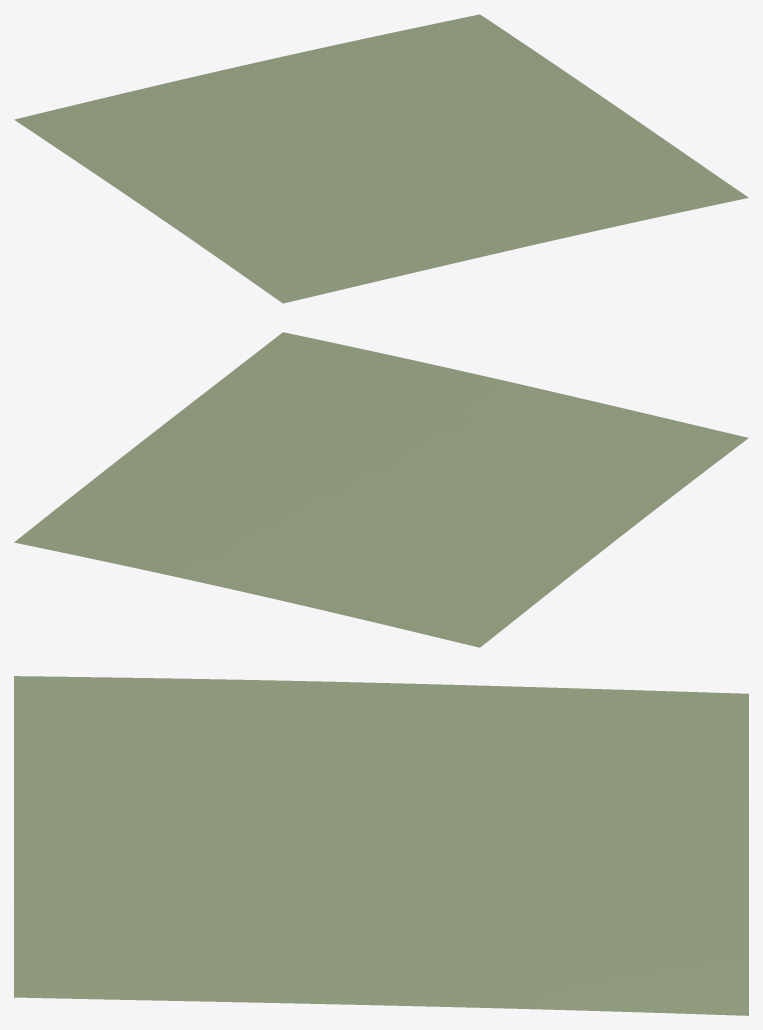
File: expanse-1-8.glb
3 views of the same model, one above another, from view 1: azimuth 30°, elevation 25°; view 2: azimuth 150°, elevation 25°; view 3: azimuth 270°, elevation 25° (orthographic). The views are drawn at different scales.
Visible parts, largest first — view 1: expanse-1-8; view 2: expanse-1-8; view 3: expanse-1-8.
Boxes of the visible parts, x1,y1,x2,y2 form: expanse-1-8: (14, 14, 748, 303); expanse-1-8: (14, 332, 748, 647); expanse-1-8: (14, 676, 748, 1015).
Bounding box in the file's own units: 256 × 11.22 × 256.
